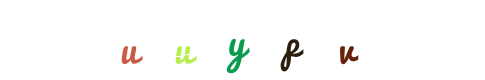P: (202, 0, 282, 80)
U: (142, 0, 222, 80), (173, 0, 253, 80)
V: (271, 0, 351, 80)
Y: (196, 0, 276, 80)
